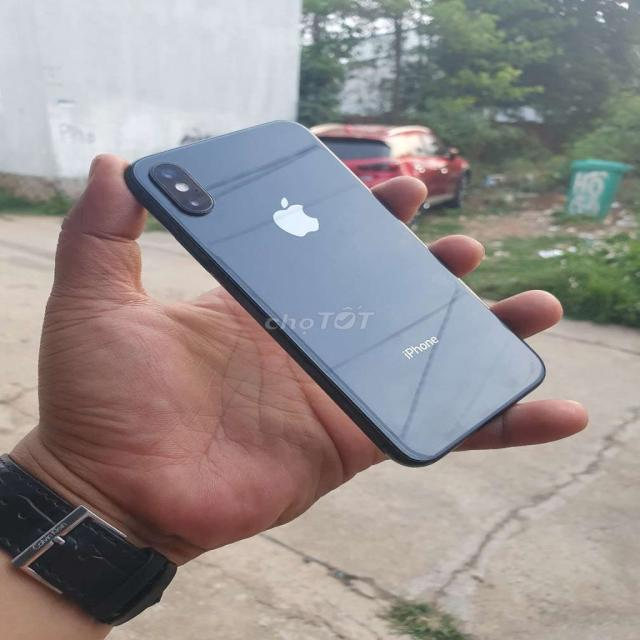gen_x_xs: (127, 122, 544, 466)
